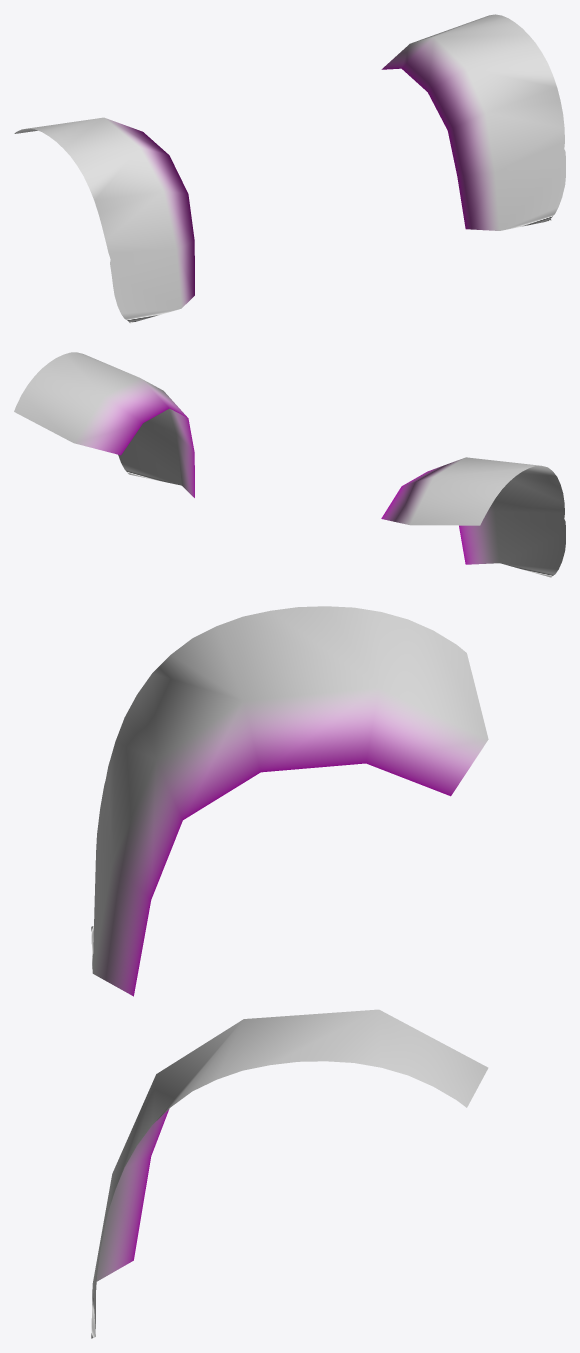
Rendered from Car_Nissan_SkylineGTRVspecR34_1999_FendersChassisR_SetA.fbx.
3 renders of one model, top to bottom at view 1: azimuth 30°, elevation 25°; view 2: azimuth 150°, elevation 25°; view 3: azimuth 270°, elevation 25°, orthographic. The views are drawn at different scales.
Visible parts, largest first — view 1: FendersChassisR 5; view 2: FendersChassisR 5; view 3: FendersChassisR 5.
Boxes of the visible parts, bbox=[...] form: FendersChassisR 5: bbox=[14, 14, 565, 323]; FendersChassisR 5: bbox=[14, 352, 565, 577]; FendersChassisR 5: bbox=[91, 606, 488, 1338].
Size of the model in its own units: 1.77 by 0.5404 by 0.6508.
